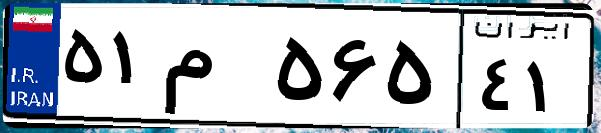1: (525, 38, 570, 115), (110, 28, 158, 98)
4: (475, 38, 525, 113)
5: (270, 28, 330, 110), (385, 28, 445, 110), (57, 26, 110, 100)
6: (330, 28, 385, 110)
م: (158, 20, 270, 120)
